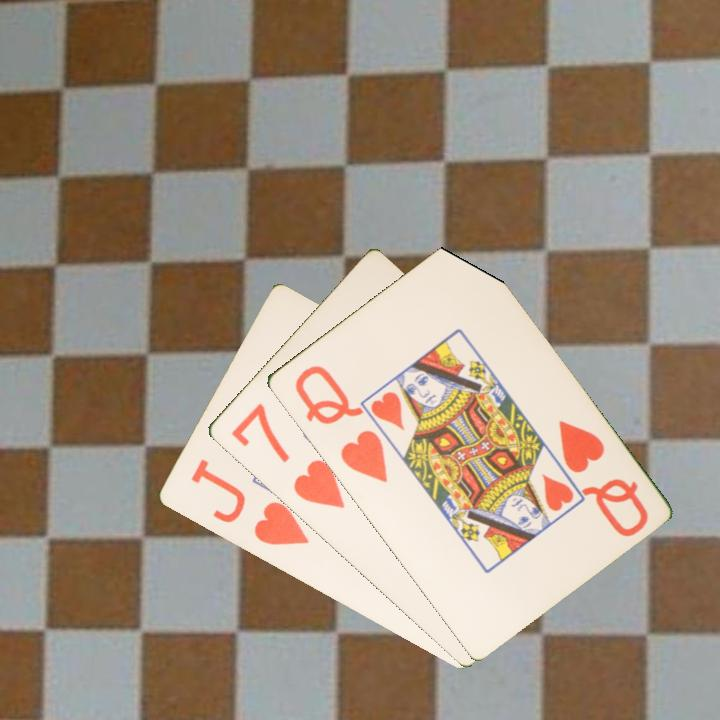7h: (227, 399, 348, 512)
Jh: (186, 456, 312, 549)
Qh: (290, 361, 391, 486), (554, 416, 651, 540)
